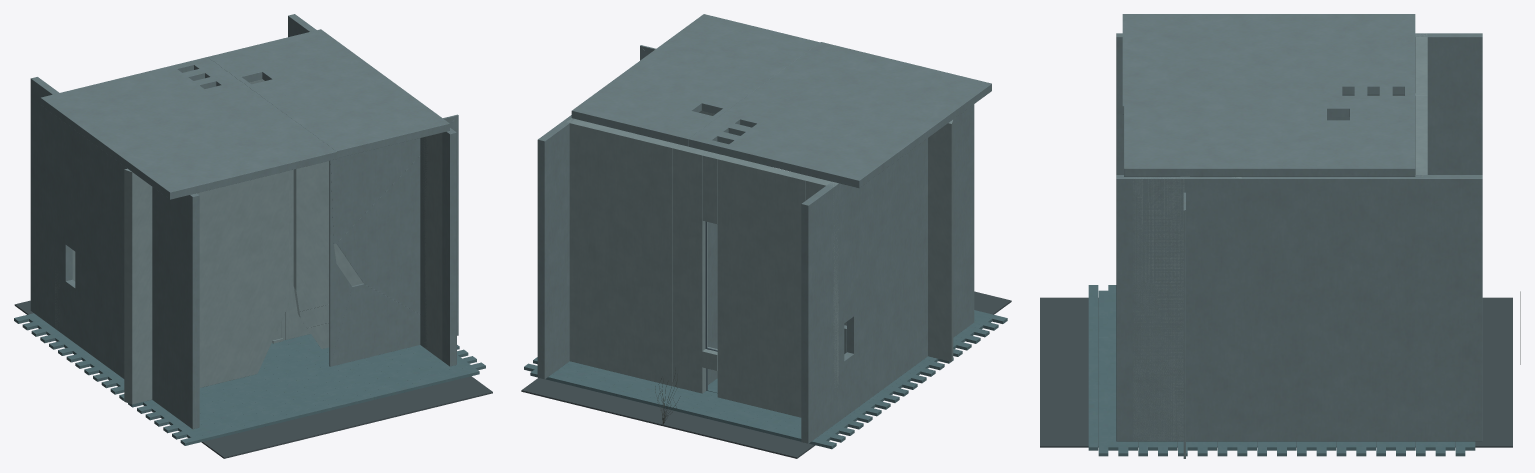
Rendered from building.glb.
The picture shows the model from 3 angles, left to right: view 1: azimuth 30°, elevation 25°; view 2: azimuth 150°, elevation 25°; view 3: azimuth 270°, elevation 25°; orthographic projection. The views are drawn at different scales.
Visible parts, largest first — view 1: V16_concrete, V16_stone, Architecture_FloorSubstrate; view 2: V16_concrete, V16_stone, Architecture_FloorSubstrate; view 3: V16_concrete, Architecture_FloorSubstrate, V16_stone.
Part boxes in pixels (bbox=[...]): V16_concrete: bbox=[30, 14, 458, 429]; V16_stone: bbox=[14, 313, 485, 445]; Architecture_FloorSubstrate: bbox=[14, 300, 492, 458]; V16_concrete: bbox=[537, 14, 991, 443]; V16_stone: bbox=[524, 310, 1007, 449]; Architecture_FloorSubstrate: bbox=[521, 291, 1011, 458]; V16_concrete: bbox=[1116, 14, 1482, 458]; Architecture_FloorSubstrate: bbox=[1040, 297, 1512, 447]; V16_stone: bbox=[1088, 285, 1475, 456].
Size of the model in its own units: 27.27 by 19.95 by 31.51.
5 materials, 2 textured.
